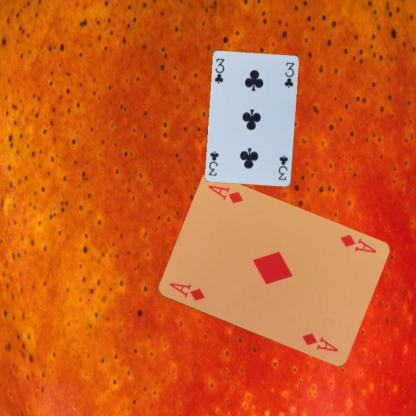3c: (276, 153, 290, 182), (212, 56, 226, 85)
Ad: (166, 280, 206, 303), (338, 232, 378, 254)
